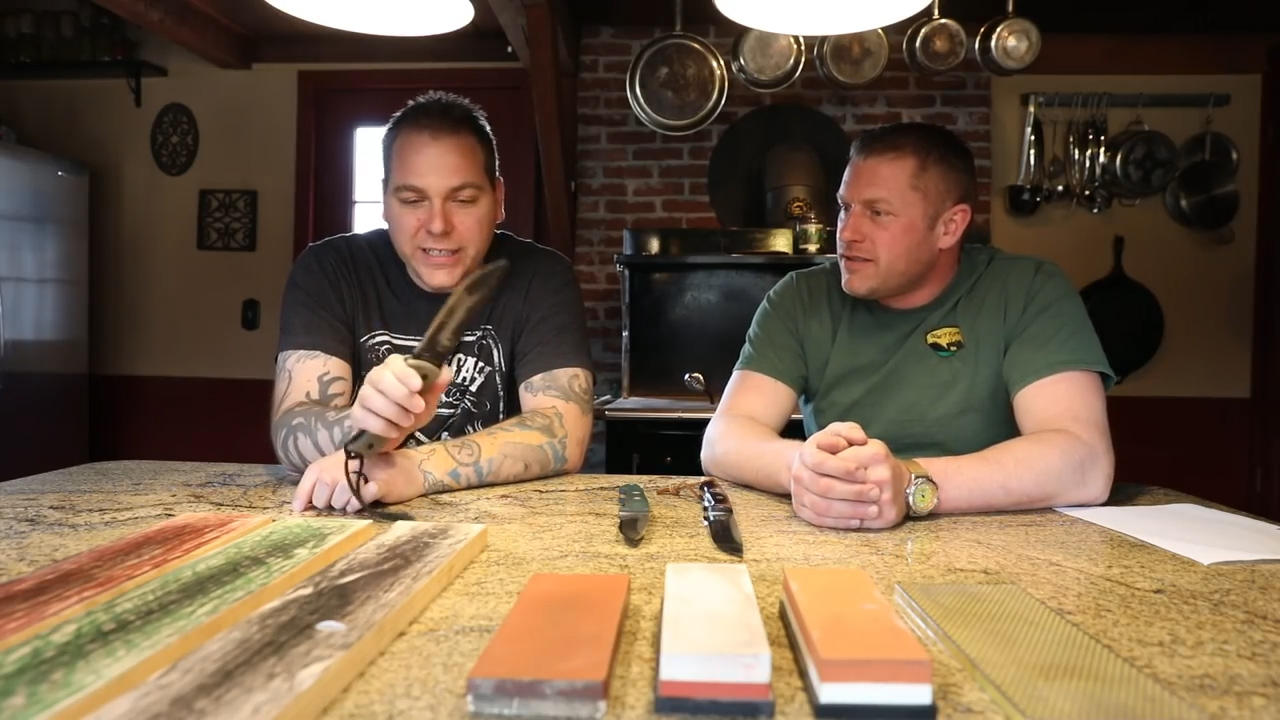knife: (363, 244, 522, 420)
